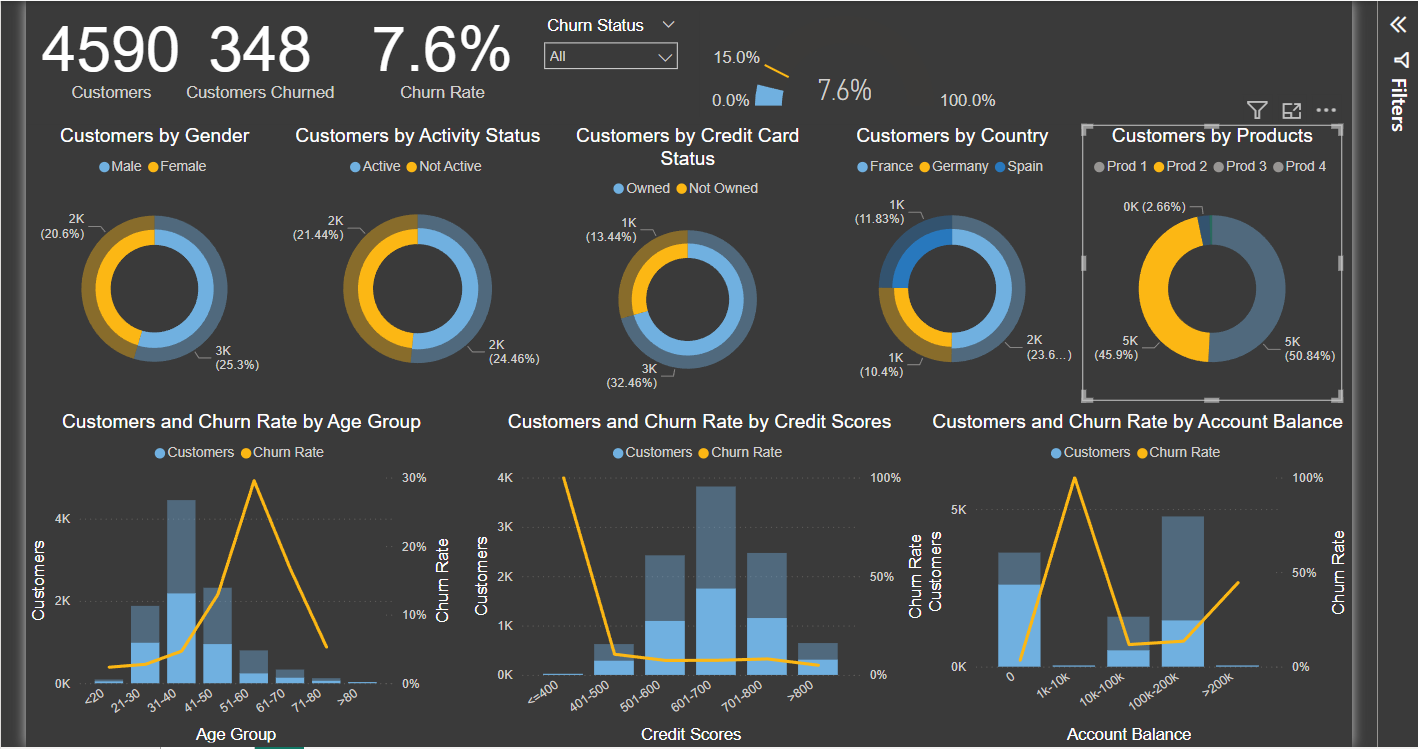

This screenshot's page, from the dashboard's own definition file:
{"tool":"powerbi","page":{"name":"Page 1","canvas":[1280,720],"ordinal":0},"visuals":[{"type":"card","fields":{"Values":["Customer Data.Customers"]},"box":[9.8,0,145.5,101.5],"z":0},{"type":"card","fields":{"Values":["Customer Data.Customers Churned"]},"box":[146.8,0,157.8,101.5],"z":1},{"type":"card","fields":{"Values":["Customer Data.Churn Rate"]},"box":[304.6,0,193.5,101.5],"z":2},{"type":"donutChart","fields":{"Category":["Customer Data.Gender"],"Y":["Customer Data.Customers"]},"box":[0,119.4,248.4,266.2],"z":3},{"type":"donutChart","fields":{"Y":["Customer Data.Customers"],"Category":["Customer Data.Activity Status"]},"box":[248.4,119.4,259.3,266.2],"z":4},{"type":"donutChart","fields":{"Y":["Customer Data.Customers"],"Category":["Customer Data.Credit Card Status"]},"box":[509.1,119.4,259.3,266.2],"z":5},{"type":"donutChart","fields":{"Y":["Customer Data.Customers"],"Category":["Customer Data.Country"]},"box":[768.4,119.4,251.1,266.2],"z":6},{"type":"donutChart","fields":{"Y":["Customer Data.Customers"],"Category":["Customer Data.Products"]},"box":[1019.6,119.4,251.1,266.2],"z":7},{"type":"lineClusteredColumnComboChart","fields":{"Category":["Age Group ID.Age Group"],"Y":["Customer Data.Customers"],"Y2":["Customer Data.Churn Rate"]},"box":[0,395.2,415.8,325.2],"z":8},{"type":"lineClusteredColumnComboChart","fields":{"Y":["Customer Data.Customers"],"Y2":["Customer Data.Churn Rate"],"Category":["Credit Scores ID.Credit Scores"]},"box":[426.8,395.2,446,325.2],"z":9},{"type":"lineClusteredColumnComboChart","fields":{"Y":["Customer Data.Customers"],"Y2":["Customer Data.Churn Rate"],"Category":["Acct Balance ID.Account Balance"]},"box":[864.5,395.2,415.8,325.2],"z":10},{"type":"slicer","fields":{"Values":["Customer Data.Churn Status"]},"box":[489.9,9.6,149.6,91.9],"z":11},{"type":"gauge","fields":{"Y":["Customer Data.Churn Rate"],"MinValue":["Min(Customer Data.Minimum Churn Rate)"],"MaxValue":["Max(Customer Data.Maximum Churn Rate)"],"TargetValue":["Min(Customer Data.Target Churn Rate)"]},"box":[650.4,9.6,297.8,101.5],"z":12}]}

Visuals, with their boxes in screenshot pixels (x1, y1, x2, y2):
card - Customer Data.Customers: (x1=202, y1=30, x2=346, y2=130)
card - Customer Data.Customers Churned: (x1=337, y1=30, x2=494, y2=130)
card - Customer Data.Churn Rate: (x1=494, y1=30, x2=685, y2=130)
donutChart - Customer Data.Gender x Customer Data.Customers: (x1=192, y1=148, x2=438, y2=411)
donutChart - Customer Data.Customers x Customer Data.Activity Status: (x1=438, y1=148, x2=695, y2=411)
donutChart - Customer Data.Customers x Customer Data.Credit Card Status: (x1=696, y1=148, x2=953, y2=411)
donutChart - Customer Data.Customers x Customer Data.Country: (x1=953, y1=148, x2=1202, y2=411)
donutChart - Customer Data.Customers x Customer Data.Products: (x1=1202, y1=148, x2=1417, y2=411)
lineClusteredColumnComboChart - Age Group ID.Age Group x Customer Data.Customers: (x1=192, y1=421, x2=604, y2=743)
lineClusteredColumnComboChart - Customer Data.Customers x Customer Data.Churn Rate: (x1=615, y1=421, x2=1056, y2=743)
lineClusteredColumnComboChart - Customer Data.Customers x Customer Data.Churn Rate: (x1=1048, y1=421, x2=1417, y2=743)
slicer - Customer Data.Churn Status: (x1=677, y1=39, x2=825, y2=130)
gauge - Customer Data.Churn Rate x Min(Customer Data.Minimum Churn Rate): (x1=836, y1=39, x2=1131, y2=140)
